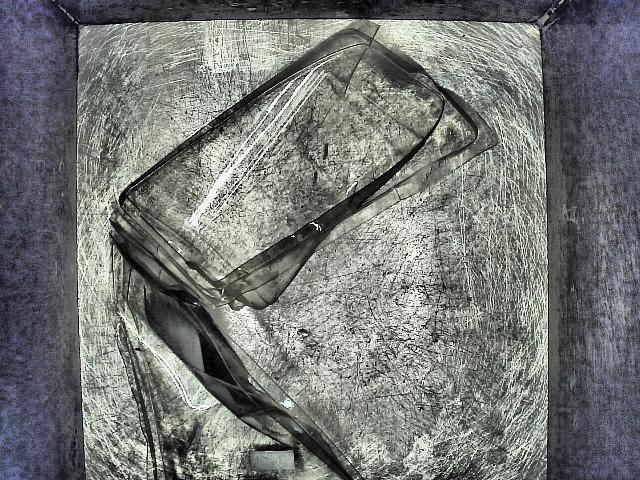Plastic: (107, 13, 535, 480)
